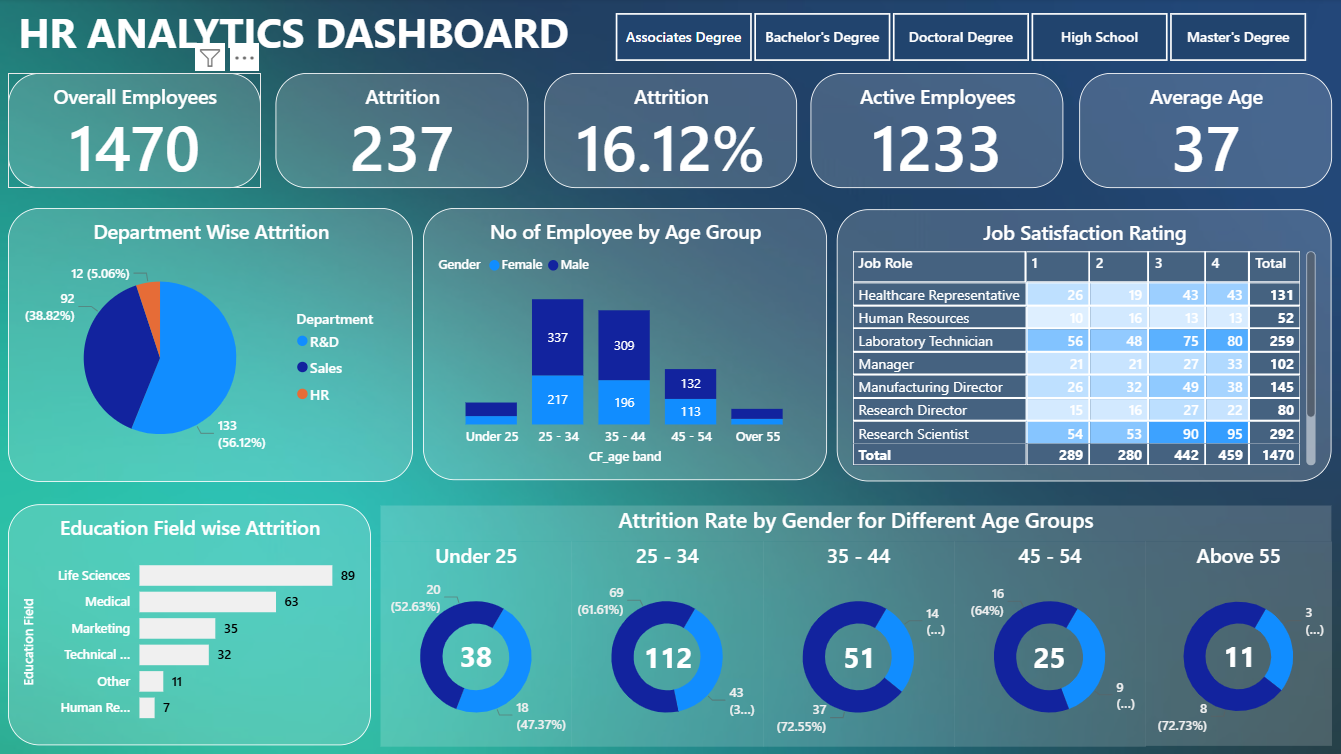

Layout of this report page (visuals, bound fields, positions):
{"tool":"powerbi","page":{"name":"Page 1","canvas":[1280,720],"ordinal":0},"visuals":[{"type":"card","title":"Overall Employees","fields":{"Values":["Sum(HR data.Employee Count)"]},"box":[9.5,71.4,240.5,109.5],"z":0},{"type":"card","title":"Attrition","fields":{"Values":["Sum(HR data.Attrition Count)"]},"box":[264.3,71.4,240.5,109.5],"z":1000},{"type":"card","title":"Attrition","fields":{"Values":["HR data.Attrition Rate"]},"box":[520.2,71.4,240.5,109.5],"z":2000},{"type":"card","title":"Active Employees","fields":{"Values":["HR data.Active Employees"]},"box":[773.8,71.4,240.5,109.5],"z":3000},{"type":"card","title":"Average Age","fields":{"Values":["Avg(HR data.Age)"]},"box":[1029.8,71.4,240.5,109.5],"z":4000},{"type":"pieChart","title":"Department Wise Attrition","fields":{"Category":["HR data.Department"],"Y":["Sum(HR data.Attrition Count)"]},"box":[9.5,200,385.7,260.7],"z":5000},{"type":"columnChart","title":"No of Employee by Age Group","fields":{"Category":["HR data.CF_age band"],"Y":["Sum(HR data.Employee Count)"],"Series":["HR data.Gender"]},"box":[404.8,200,384.5,259.5],"z":6000},{"type":"pivotTable","title":"Job Satisfaction Rating","fields":{"Rows":["HR data.Job Role"],"Columns":["HR data.Job Satisfaction"],"Values":["Sum(HR data.Employee Count)"]},"box":[798.8,201.2,471.4,259.5],"z":7000},{"type":"barChart","title":"Education Field wise Attrition","fields":{"Category":["HR data.Education Field"],"Y":["Sum(HR data.Attrition Count)"]},"box":[9.5,482.1,345.2,229.8],"z":8000},{"type":"textbox","title":"Attrition Rate by Gender for Different Age Groups","box":[364.3,483.3,906,34.5],"z":9000},{"type":"donutChart","title":"Under 25","fields":{"Category":["HR data.Gender"],"Y":["Sum(HR data.Attrition Count)"],"Series":["HR data.CF_age band"]},"box":[364.3,517.9,182.1,195],"z":10000},{"type":"donutChart","title":"25 - 34","fields":{"Category":["HR data.Gender"],"Y":["Sum(HR data.Attrition Count)"],"Series":["HR data.CF_age band"]},"box":[546.4,517.9,182.1,195],"z":11000},{"type":"donutChart","title":"35 - 44","fields":{"Category":["HR data.Gender"],"Y":["Sum(HR data.Attrition Count)"],"Series":["HR data.CF_age band"]},"box":[728.6,517.9,182.1,195],"z":12000},{"type":"donutChart","title":"Above 55","fields":{"Category":["HR data.Gender"],"Y":["Sum(HR data.Attrition Count)"],"Series":["HR data.CF_age band"]},"box":[1092.9,517.9,177.4,194],"z":13000},{"type":"donutChart","title":"45 - 54","fields":{"Category":["HR data.Gender"],"Y":["Sum(HR data.Attrition Count)"],"Series":["HR data.CF_age band"]},"box":[910.7,517.9,182.1,195],"z":14000},{"type":"card","fields":{"Values":["Sum(HR data.Attrition Count)"]},"box":[433.6,602.4,43.9,50.8],"z":15000},{"type":"card","fields":{"Values":["Sum(HR data.Attrition Count)"]},"box":[607.9,603.8,60.4,50.8],"z":16000},{"type":"card","fields":{"Values":["Sum(HR data.Attrition Count)"]},"box":[798.6,603.8,43.9,50.8],"z":17000},{"type":"card","fields":{"Values":["Sum(HR data.Attrition Count)"]},"box":[979.8,603.8,43.9,50.8],"z":18000},{"type":"card","fields":{"Values":["Sum(HR data.Attrition Count)"]},"box":[1160.9,602.4,43.9,50.8],"z":19000},{"type":"textbox","title":"HR ANALYTICS DASHBOARD","box":[14.3,6,547.6,60.7],"z":20000},{"type":"slicer","fields":{"Values":["HR data.Education"]},"box":[561.9,7.1,708.3,59.5],"z":21000}]}

Visuals, with their boxes in screenshot pixels (x1, y1, x2, y2), scaled from the page's 1280x720 canvas onto the 1341x754 screenshot:
"Overall Employees" card: 10,75,262,189
"Attrition" card: 277,75,529,189
"Attrition" card: 545,75,797,189
"Active Employees" card: 811,75,1063,189
"Average Age" card: 1079,75,1331,189
"Department Wise Attrition" pieChart: 10,209,414,482
"No of Employee by Age Group" columnChart: 424,209,827,481
"Job Satisfaction Rating" pivotTable: 837,211,1331,482
"Education Field wise Attrition" barChart: 10,505,372,746
"Attrition Rate by Gender for Different Age Groups" textbox: 382,506,1331,542
"Under 25" donutChart: 382,542,572,747
"25 - 34" donutChart: 572,542,763,747
"35 - 44" donutChart: 763,542,954,747
"Above 55" donutChart: 1145,542,1331,746
"45 - 54" donutChart: 954,542,1145,747
card - Sum(HR data.Attrition Count): 454,631,500,684
card - Sum(HR data.Attrition Count): 637,632,700,686
card - Sum(HR data.Attrition Count): 837,632,883,686
card - Sum(HR data.Attrition Count): 1026,632,1072,686
card - Sum(HR data.Attrition Count): 1216,631,1262,684
"HR ANALYTICS DASHBOARD" textbox: 15,6,589,70
slicer - HR data.Education: 589,7,1331,70
